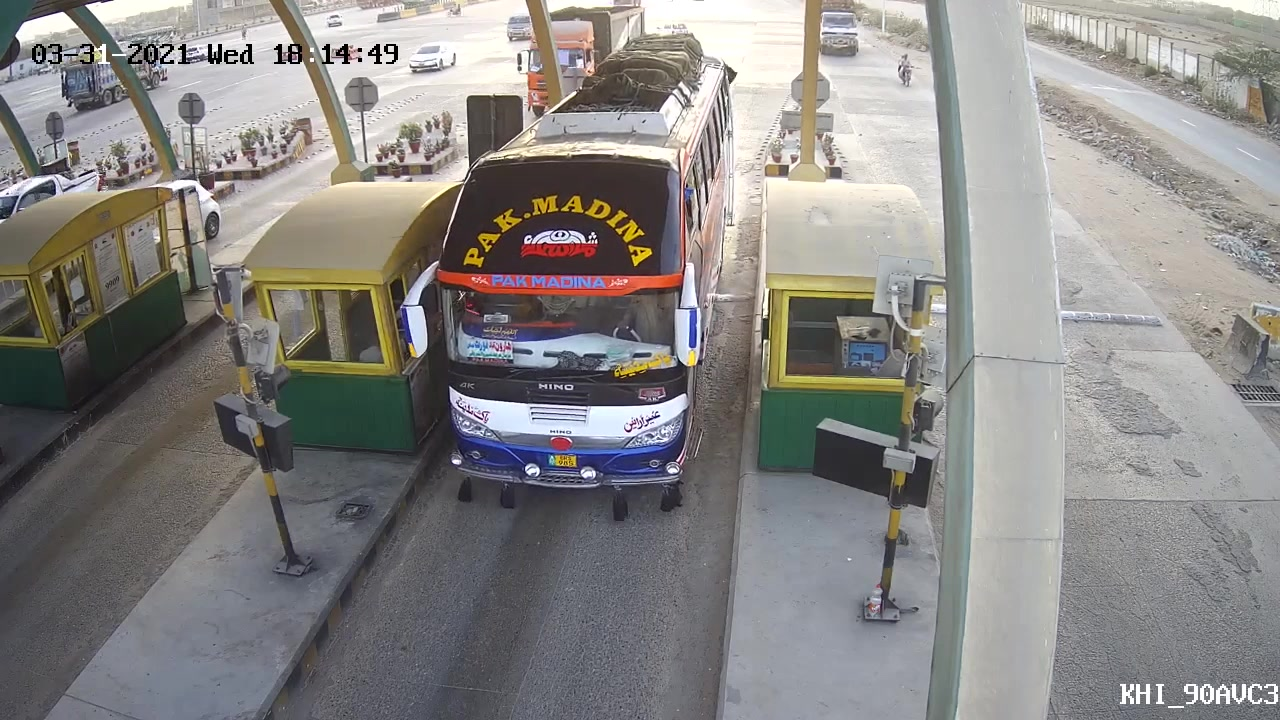F4: (396, 32, 742, 515)
